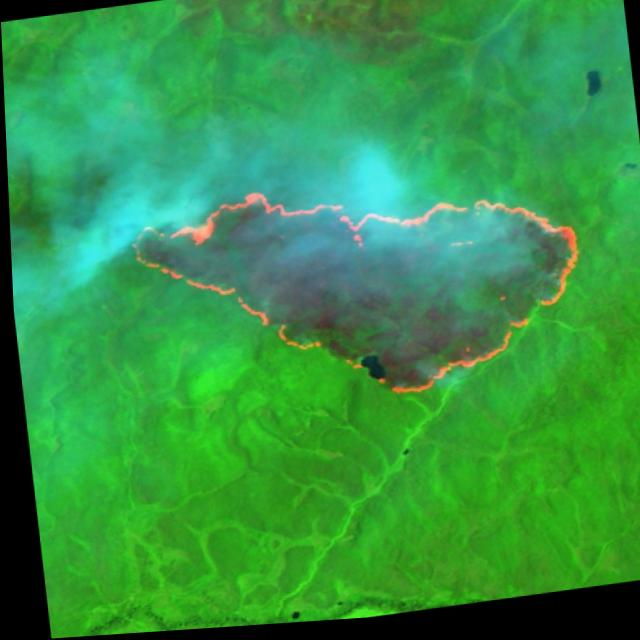fire: (113, 153, 608, 435)
